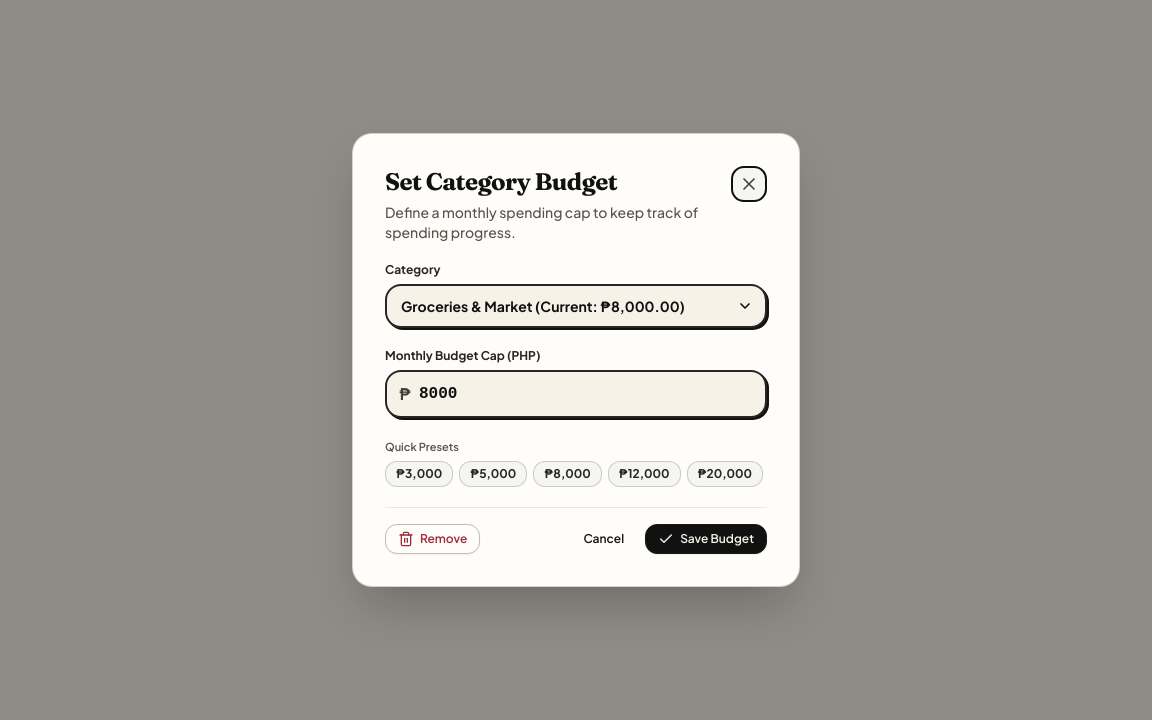
Test: BudgetFormModal Component (TDD) › shows error validation when entering an invalid or negative limit
Replace the text in the number field with test id "budget-limit-input" with "-500". click: [576, 394]
box: [385, 370, 767, 418]
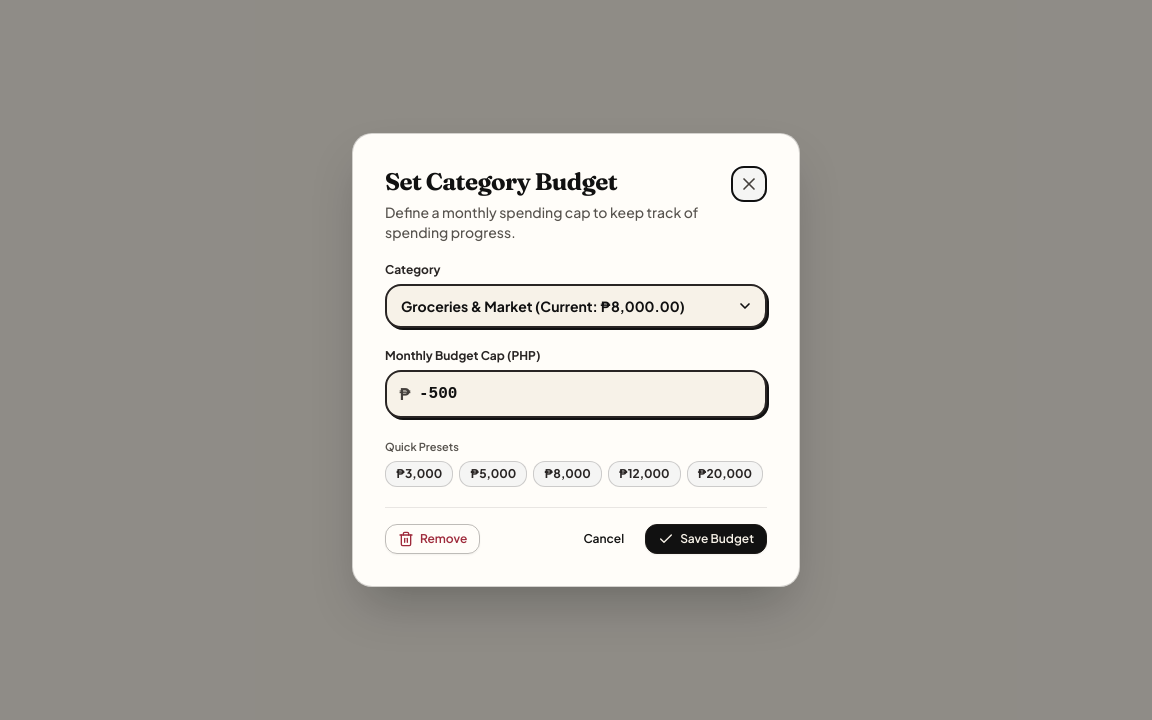
Click the button with test id "save-budget-btn". click: [706, 539]
box: [645, 524, 767, 554]
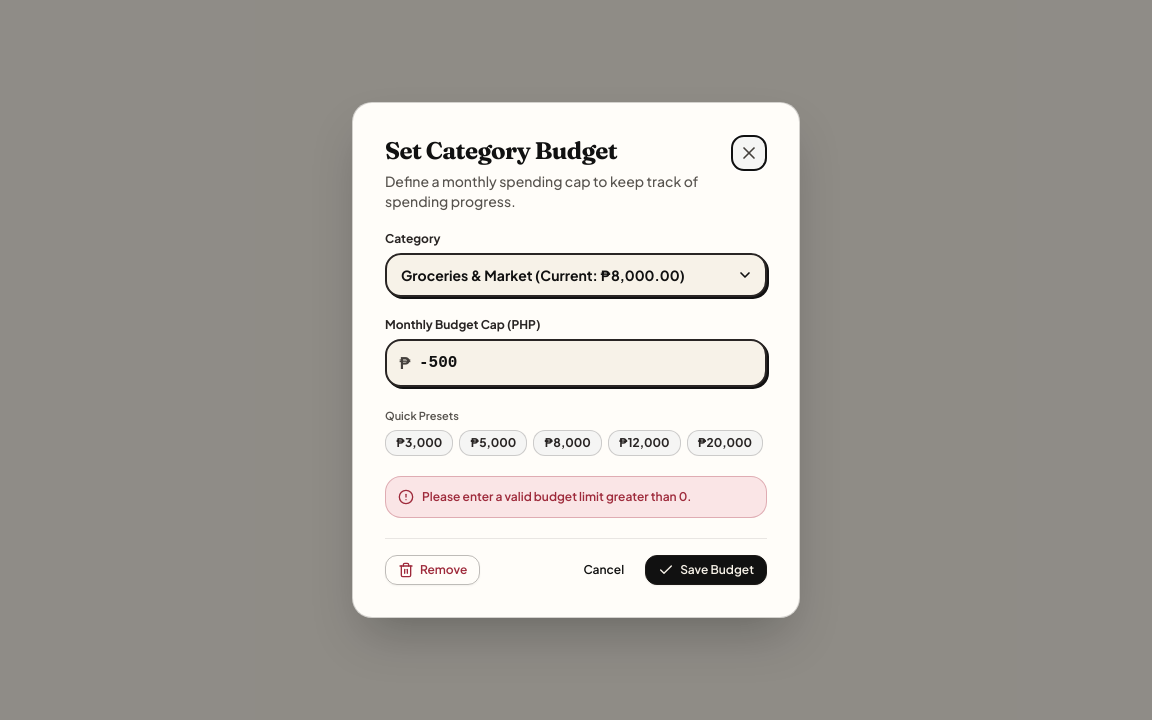
Now the text "Please enter a valid budget limit greater than 0." is shown, box [422, 489, 692, 505]
